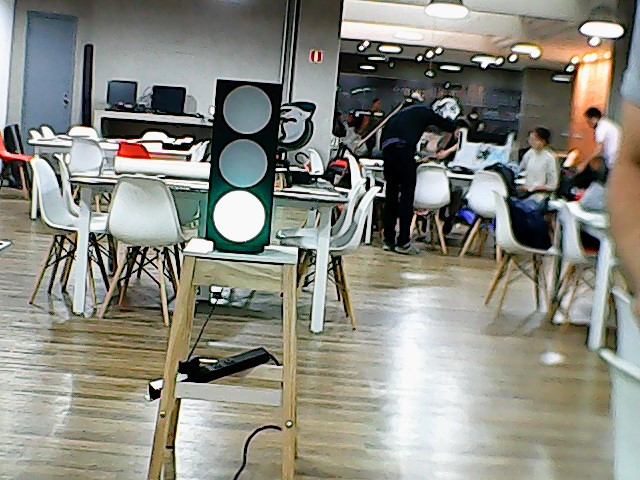verde: (203, 69, 287, 250)
